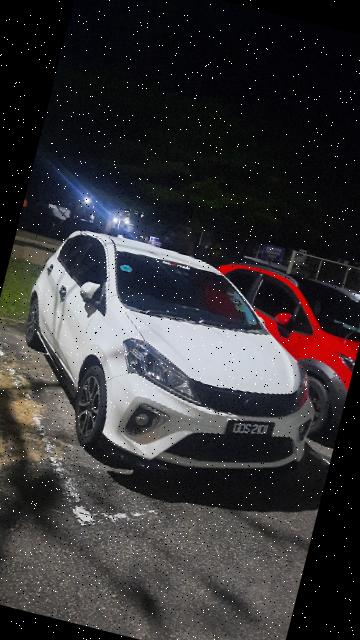License_Plate: (221, 409, 281, 446)
car: (1, 219, 348, 500)
